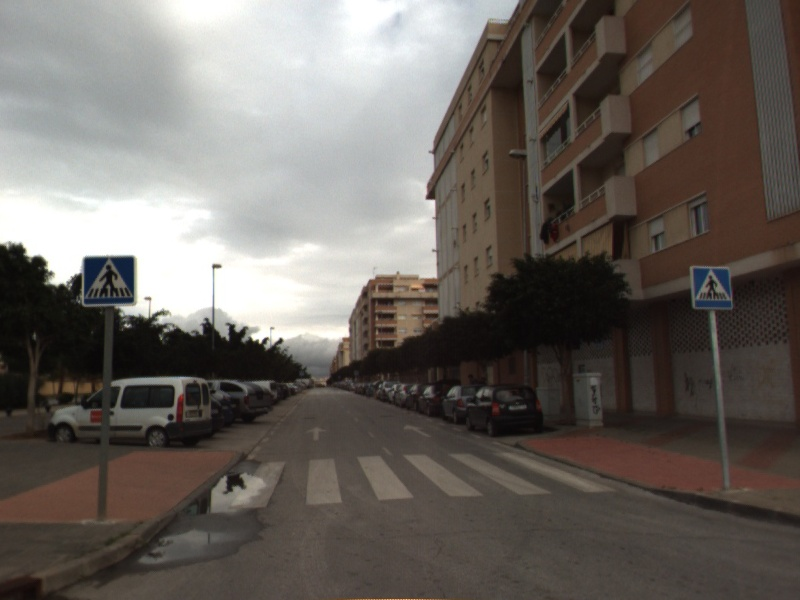STRAIGHT: (402, 422, 433, 439), (304, 424, 329, 442)
